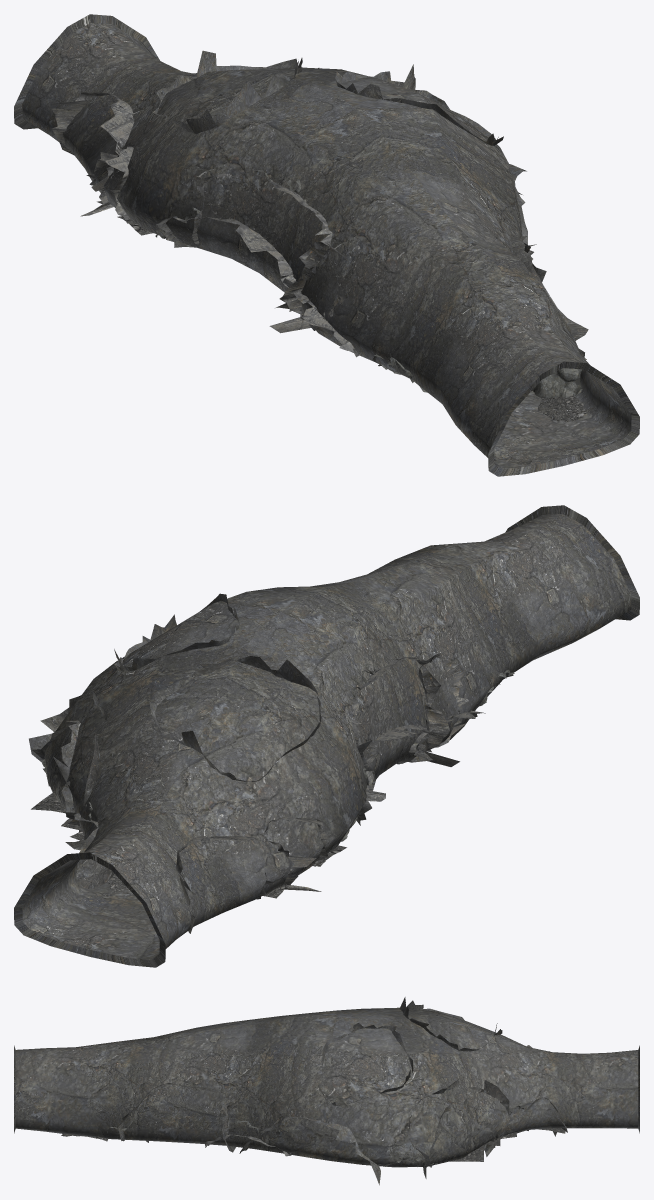
File: straight.dae
The picture shows the model from 3 angles, top to bottom: view 1: azimuth 30°, elevation 25°; view 2: azimuth 150°, elevation 25°; view 3: azimuth 270°, elevation 25°; orthographic projection. The views are drawn at different scales.
Parts seen in each view (by area): view 1: CaveWall, StriatedRock, RockPile, Gravel; view 2: CaveWall, StriatedRock, Gravel; view 3: CaveWall, Gravel, RockPile.
Boxes of the visible parts, left/top/right/bottom form: CaveWall: left=14, top=14, right=639, bottom=476; StriatedRock: left=51, top=92, right=536, bottom=357; RockPile: left=155, top=170, right=586, bottom=398; Gravel: left=97, top=201, right=586, bottom=422; CaveWall: left=14, top=505, right=639, bottom=967; StriatedRock: left=176, top=653, right=485, bottom=933; Gravel: left=31, top=793, right=346, bottom=898; CaveWall: left=14, top=997, right=639, bottom=1185; Gravel: left=61, top=1128, right=565, bottom=1161; RockPile: left=96, top=1105, right=524, bottom=1166.
Bounding box in the file's own units: 2188 × 5027 × 1132.
Materials: 4 (4 with a texture image).
